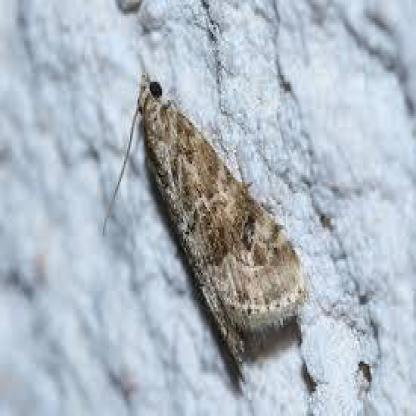Hellula undalis: (100, 67, 312, 383)
